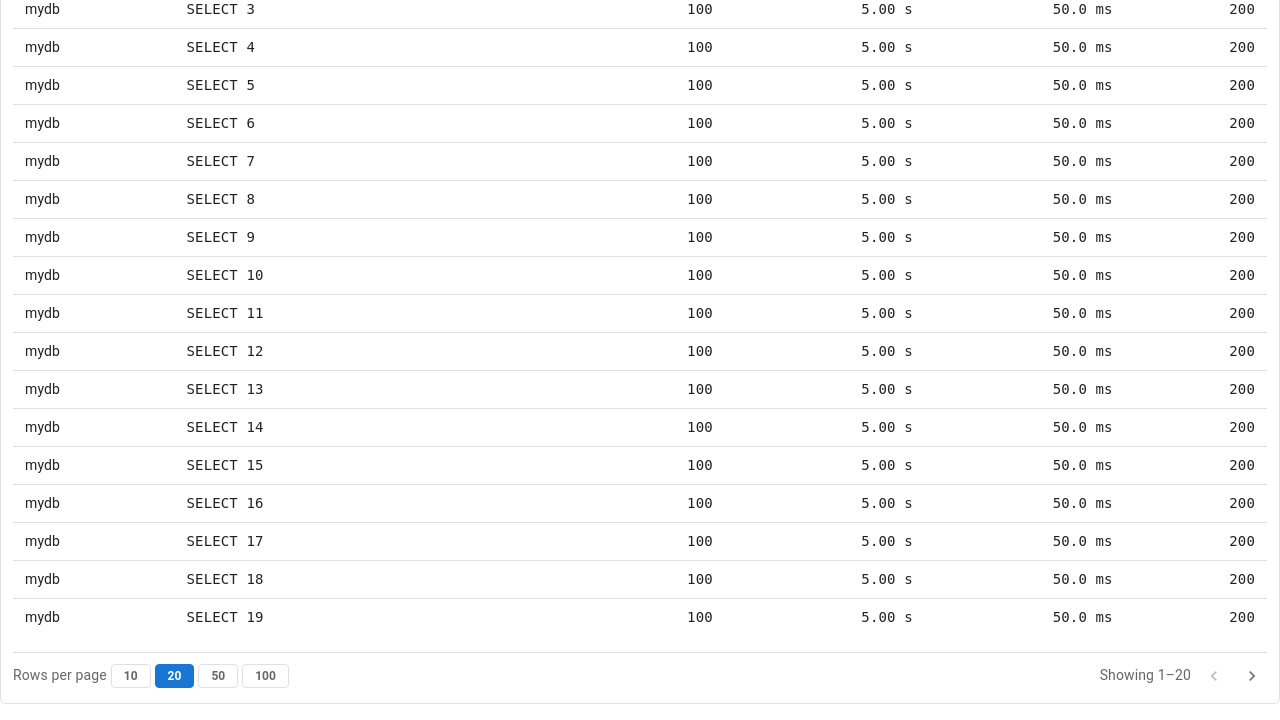
Test: TopQueriesSection › steps back one page when stranded without a total header
(page scrolled)
Check: the text "Showing 1–20" is shown, box x1=1100 y1=665 x2=1191 y2=686
Click the button named "Next page of queries".
click(1252, 676)  # box x1=1237 y1=661 x2=1267 y2=691
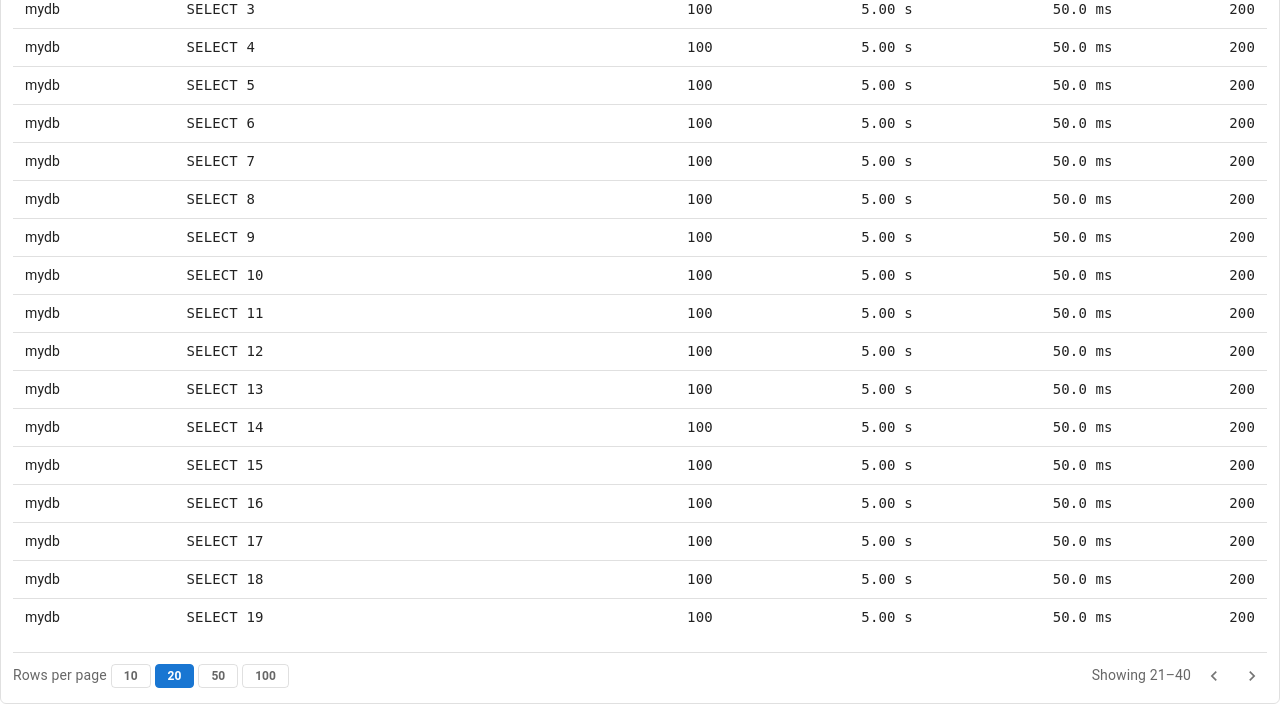
Check: the text "Showing 21–40" is shown, box x1=1092 y1=665 x2=1191 y2=686
Click the button named "Show 20 rows per page".
click(174, 676)  # box x1=155 y1=664 x2=194 y2=688
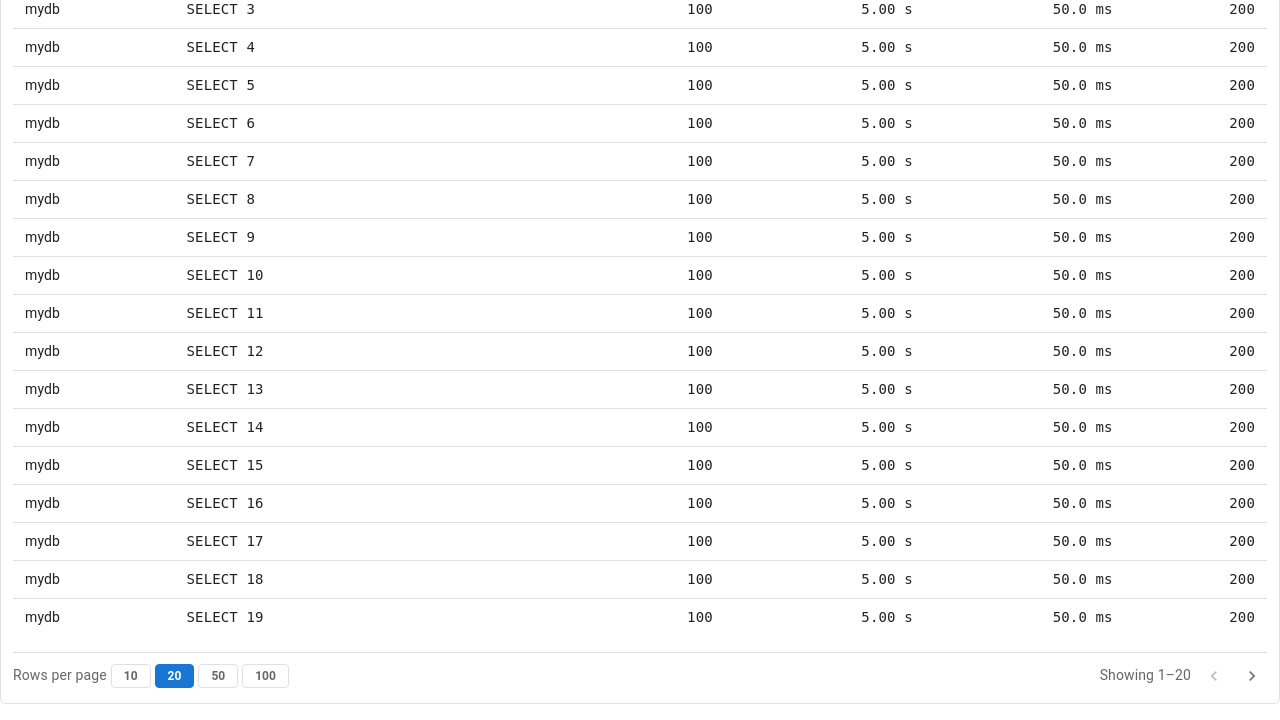
Check: the text "Showing 1–20" is shown, box x1=1100 y1=665 x2=1191 y2=686
